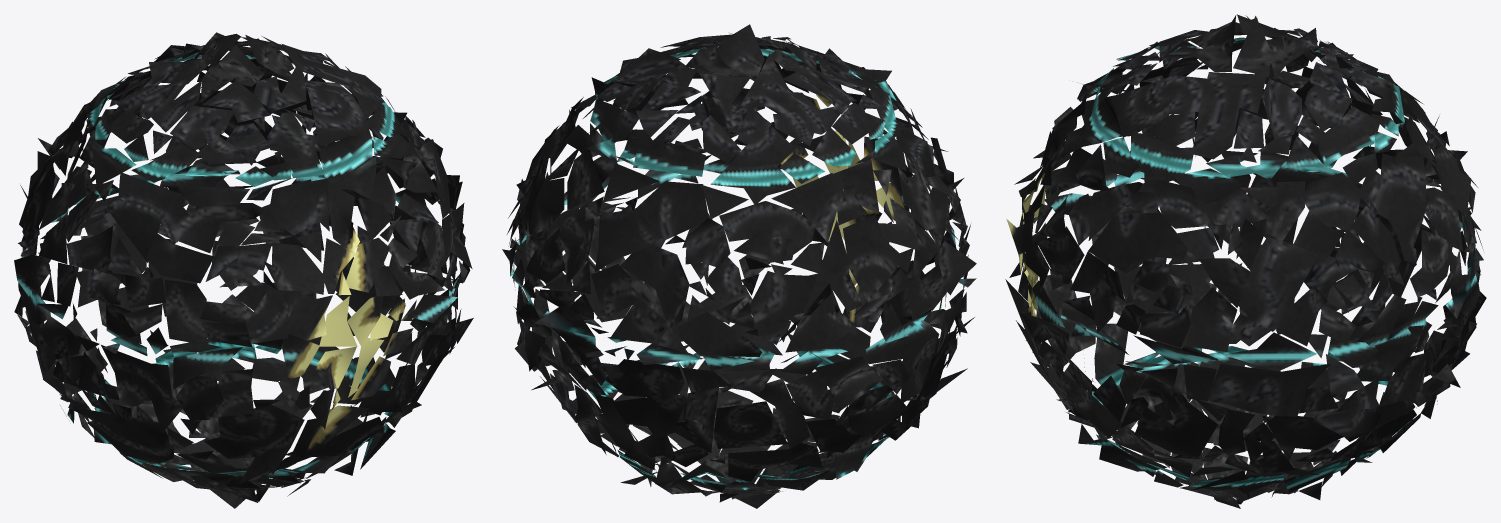
Rendered from storm_orb_m.fbx.
3 views of the same model, side by side, from view 1: azimuth 30°, elevation 25°; view 2: azimuth 150°, elevation 25°; view 3: azimuth 270°, elevation 25° (orthographic). The views are drawn at different scales.
Visible parts, largest first — view 1: storm_orb_m; view 2: storm_orb_m; view 3: storm_orb_m.
Part boxes in pixels (left/top/right/bottom): storm_orb_m: left=14, top=32, right=473, bottom=508; storm_orb_m: left=502, top=24, right=976, bottom=508; storm_orb_m: left=1005, top=14, right=1486, bottom=508.
Bounding box in the file's own units: 86.94 × 100 × 86.86.
1 material, 1 textured.
